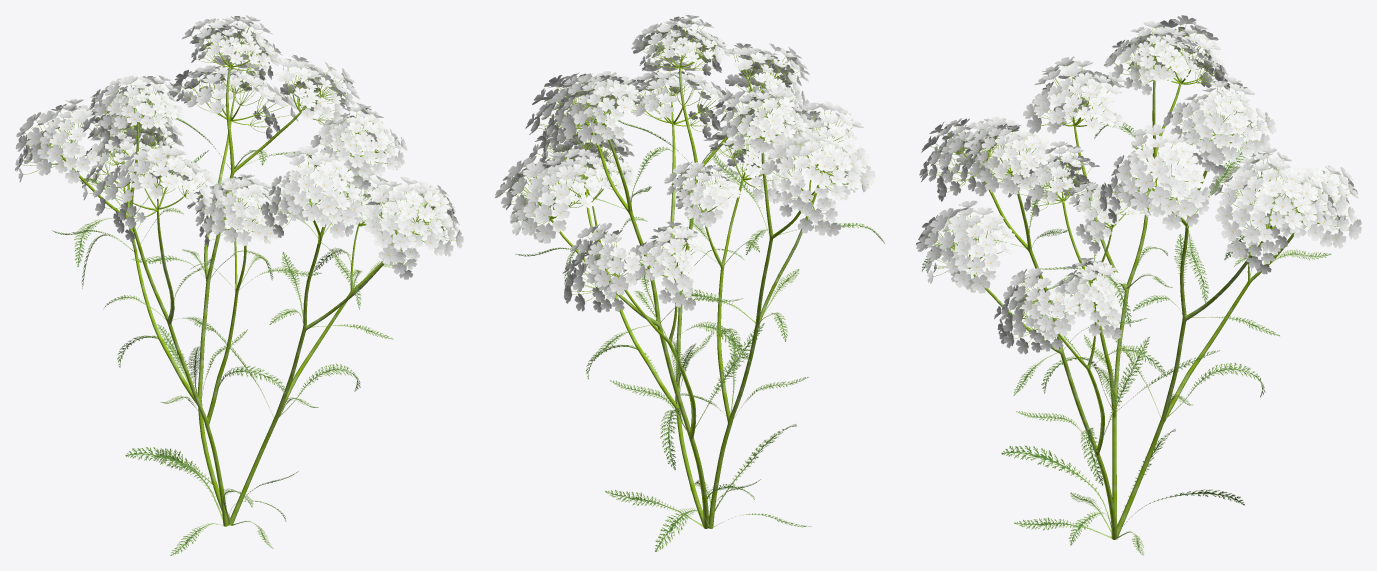
Rendered from yarrow_50cm.glb.
3 renders of one model, left to right at view 1: azimuth 30°, elevation 25°; view 2: azimuth 150°, elevation 25°; view 3: azimuth 270°, elevation 25°, orthographic. The views are drawn at different scales.
Parts seen in each view (by area): view 1: cgaxis_models_91_33_01; view 2: cgaxis_models_91_33_01; view 3: cgaxis_models_91_33_01.
Boxes of the visible parts, x1,y1,x2,y2 form: cgaxis_models_91_33_01: (15, 15, 463, 555); cgaxis_models_91_33_01: (495, 15, 884, 551); cgaxis_models_91_33_01: (916, 15, 1361, 555).
Bounding box in the file's own units: 0.4489 × 0.5235 × 0.4447.
1 material, 1 textured.
